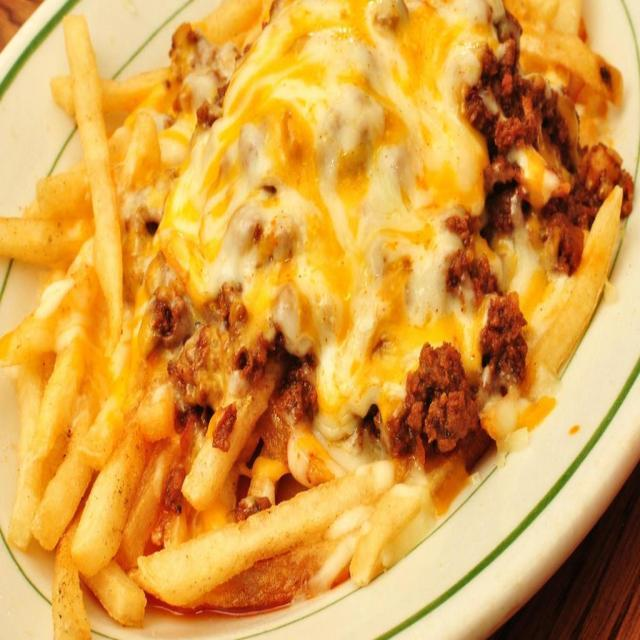French fries: (0, 0, 625, 524)
